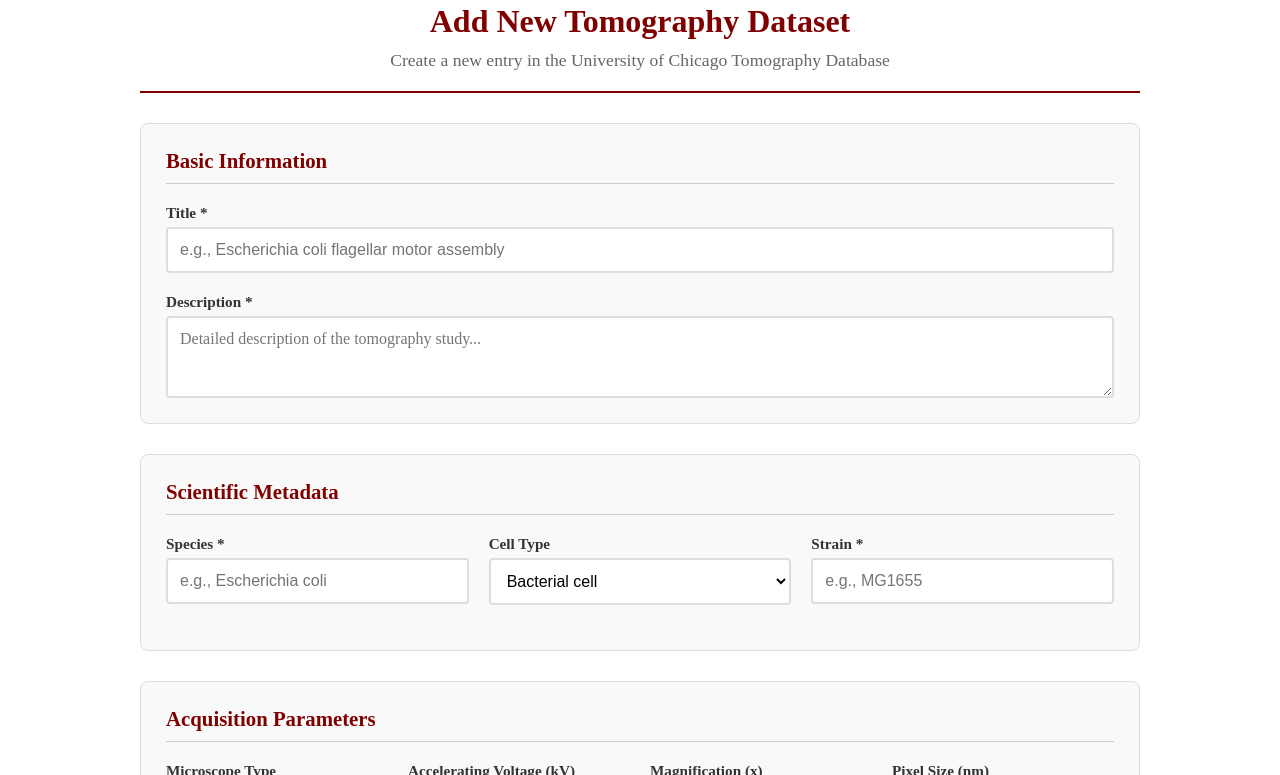
Test: AddDatasetForm › Form Validation › should validate dataset size format
The image size is (1280, 775).
Note: Fill required fields
Step 1. Type "Test Dataset" into the field labelled "Title *" → (640, 250), box [166,227,1114,273]
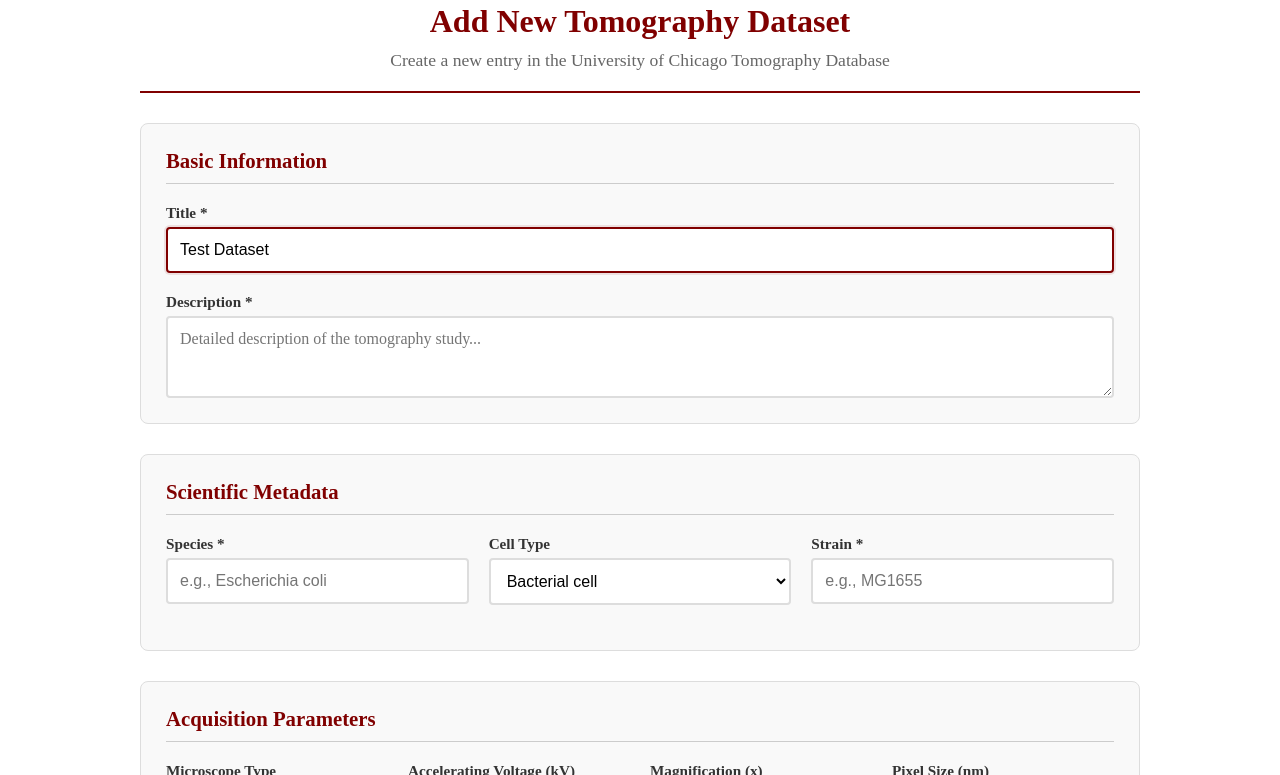
Step 2. Type "Test description" into the text box labelled "Description *" → (640, 357), box [166,316,1114,398]
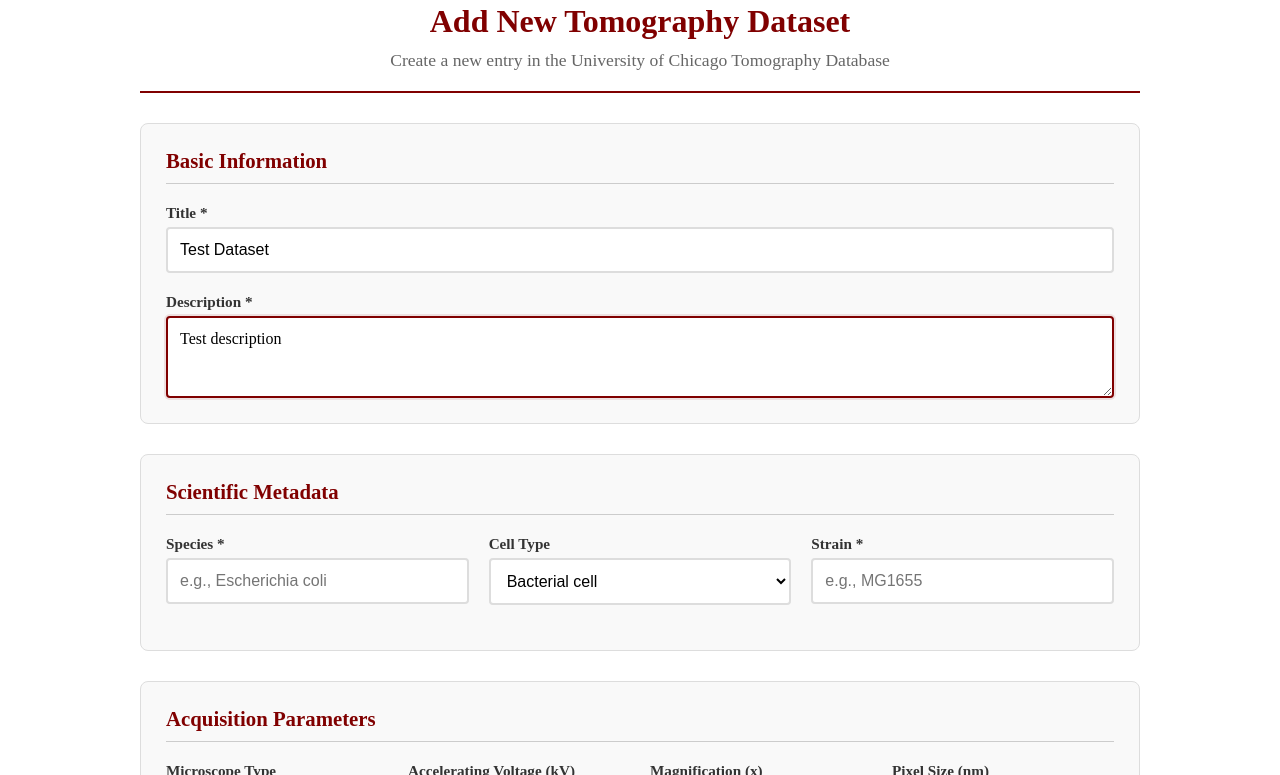
Step 3. Type "E. coli" into the field labelled "Species *" → (317, 581), box [166,558,469,604]
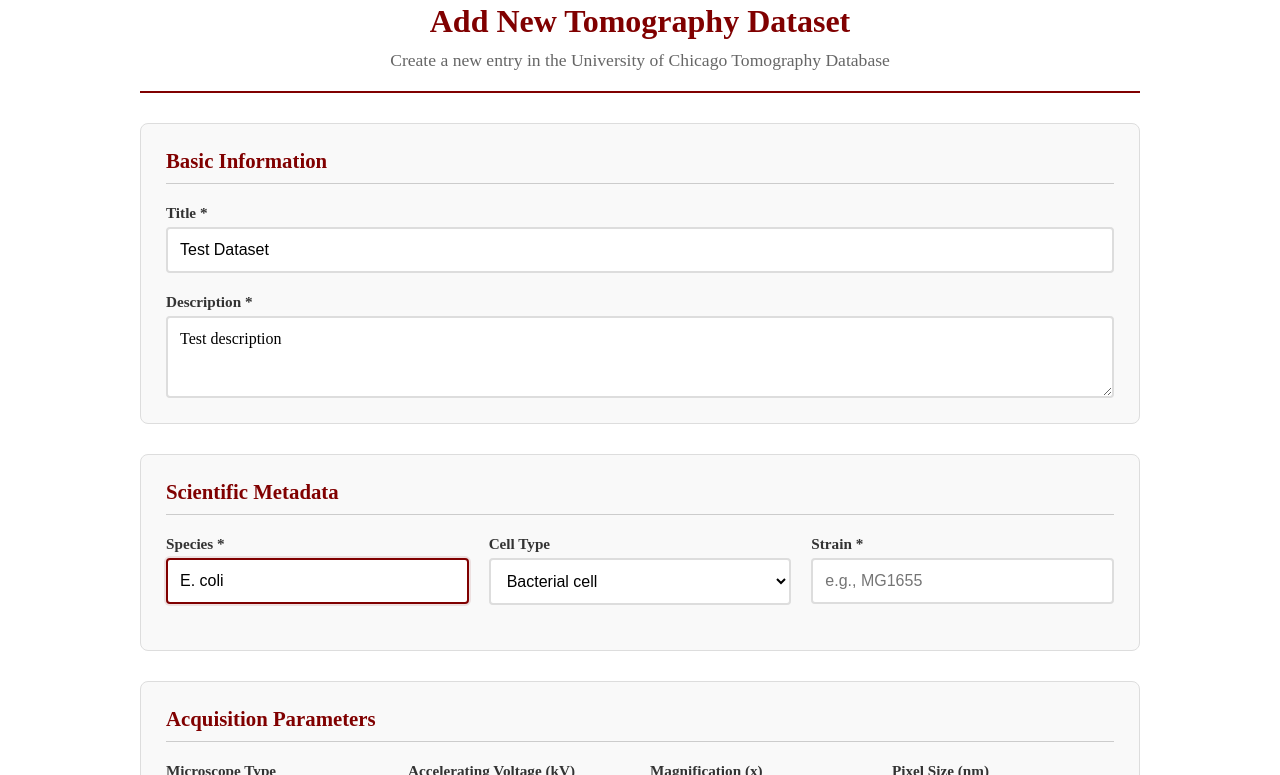
Step 4. Type "MG1655" into the field labelled "Strain *" → (963, 581), box [811,558,1114,604]
(page scrolled)
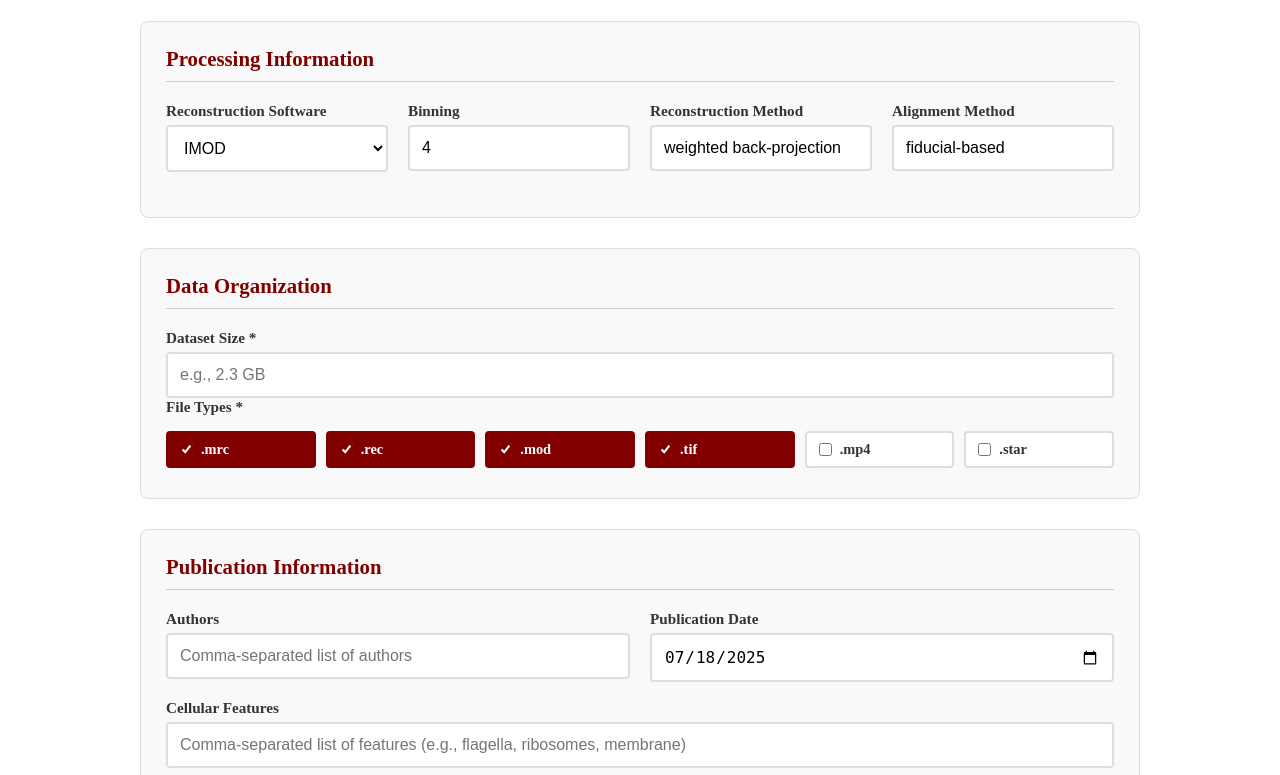
Note: Invalid dataset size
Step 5. Type "invalid size" into the field labelled "Dataset Size *" → (640, 375), box [166,352,1114,398]
(page scrolled)
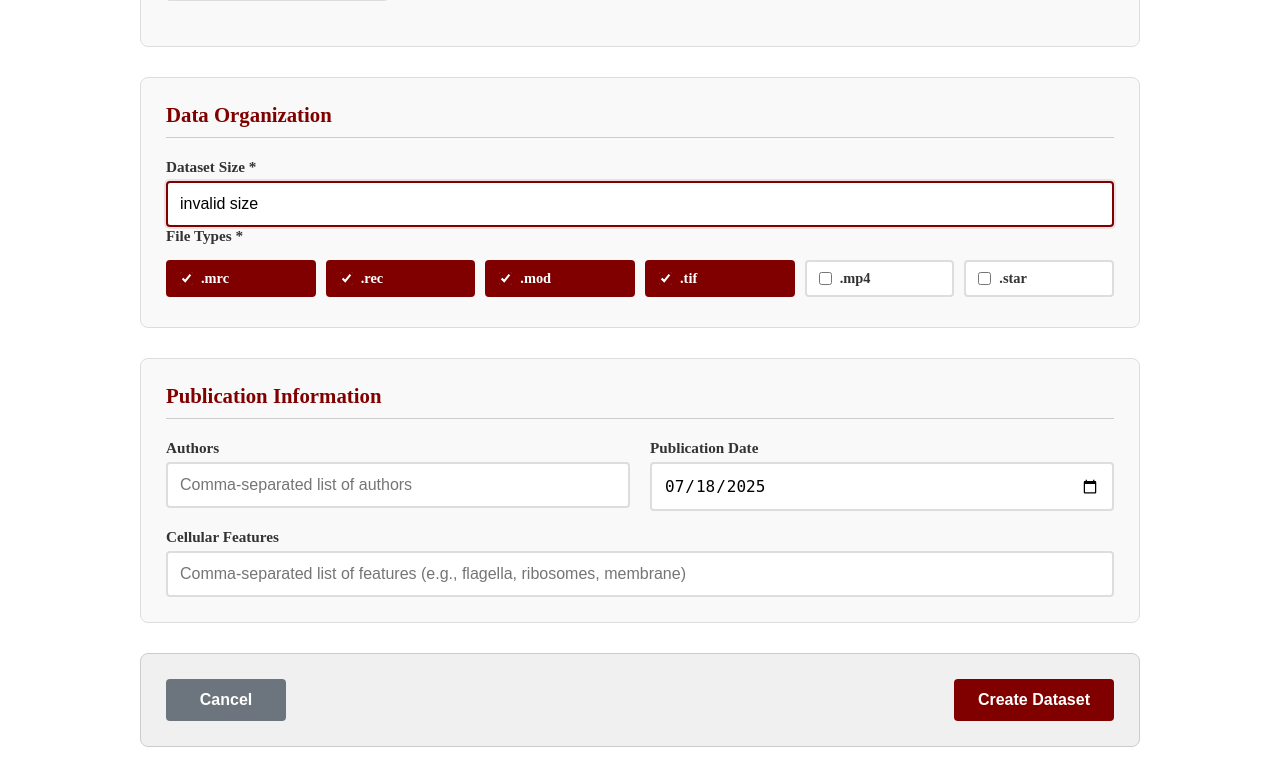
Step 6. Click the button "Create Dataset" → (1034, 700), box [954,679,1114,721]
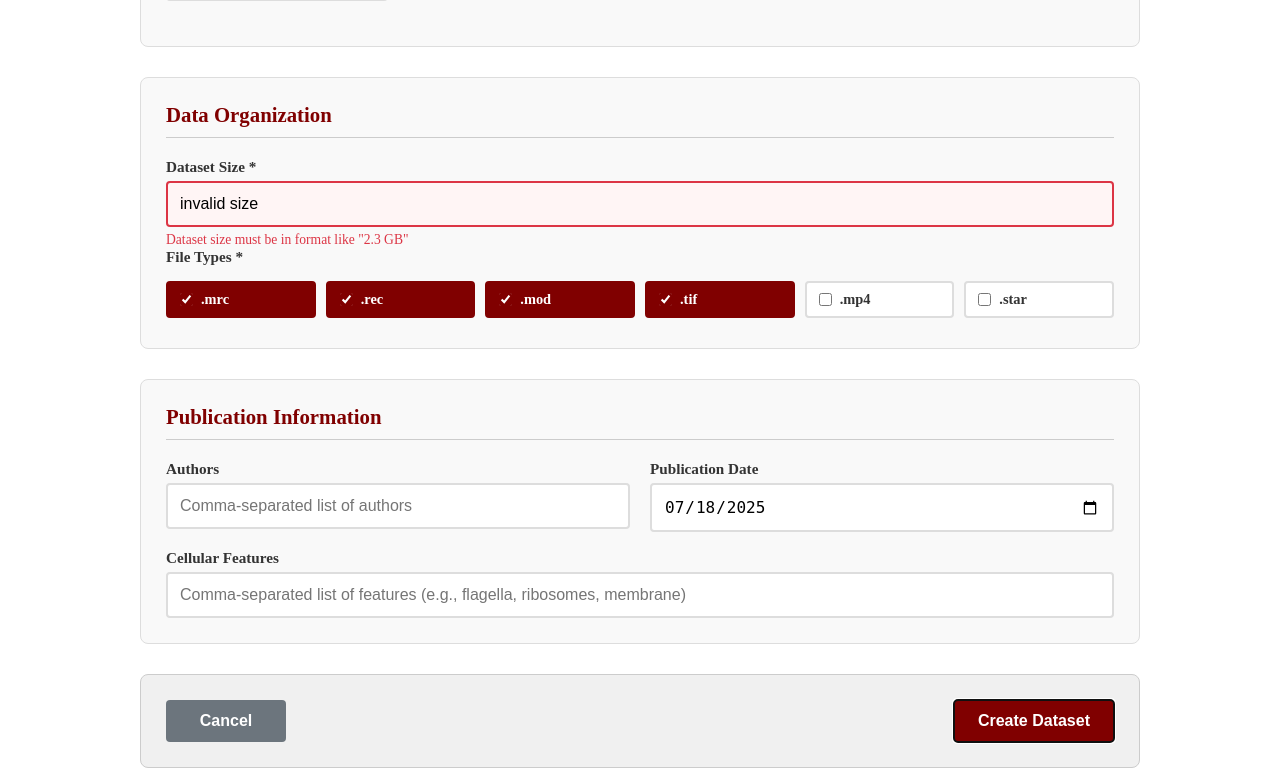
Now the text "Dataset size must be in format like \"2.3 GB\"" is shown, box [166,232,408,247]
